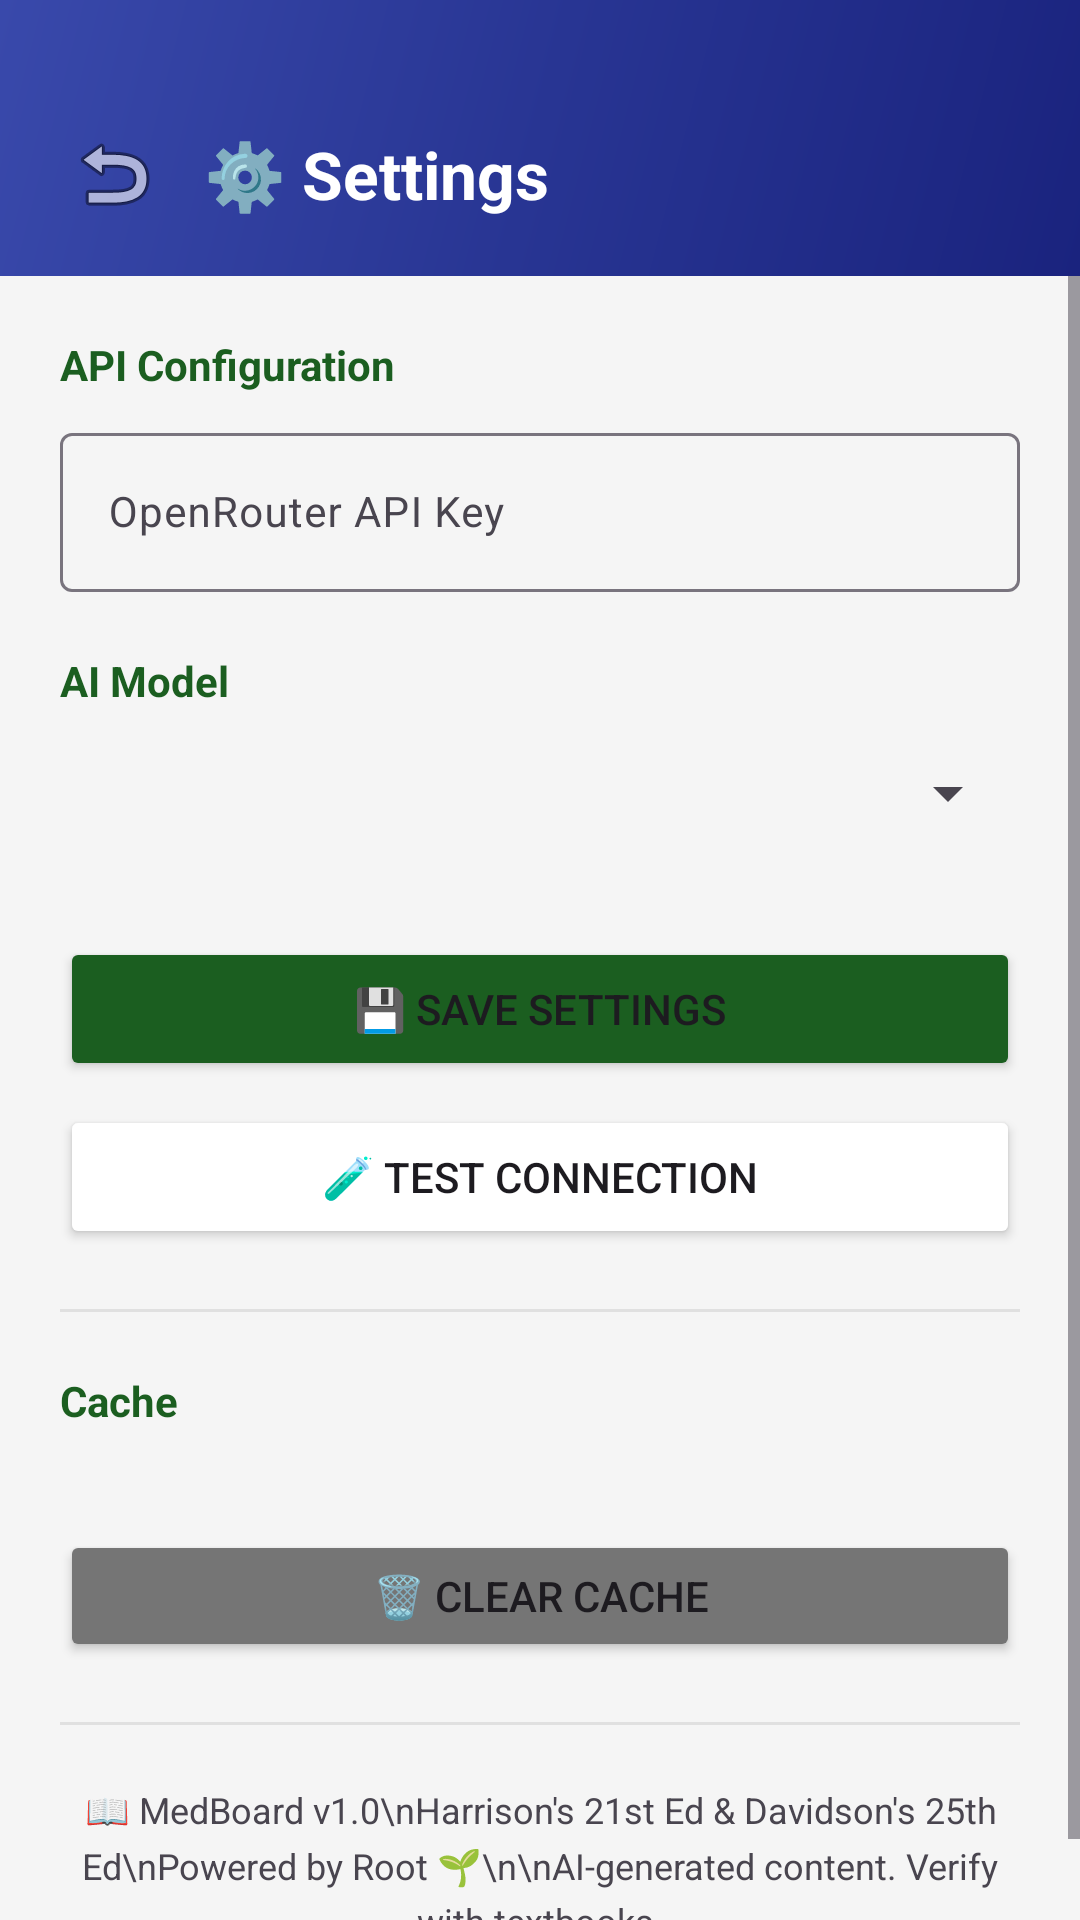

Where to tap for icons on this 1080*1920 app screen, as [x,y]:
revert: [115,174]
